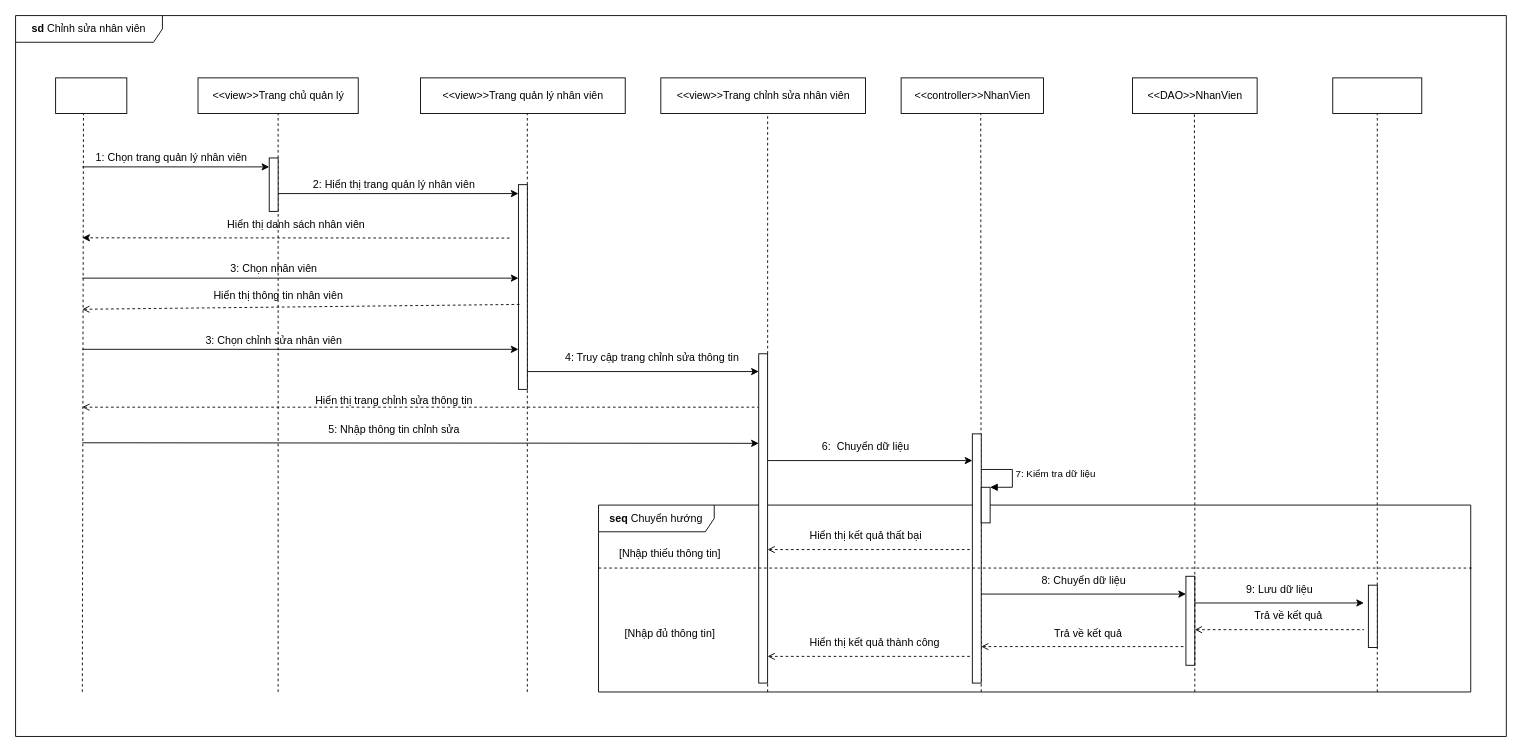
The diagram is 1522 pixels wide and 752 high, and some of its shapes have lost their labels. The shapes that lost their labels are listed below. From the top down, each one's box as (x1, y1, x2, y2) in pixels, then its label:
(55, 77, 127, 113): QuanLy
(1332, 77, 1422, 113): Database
